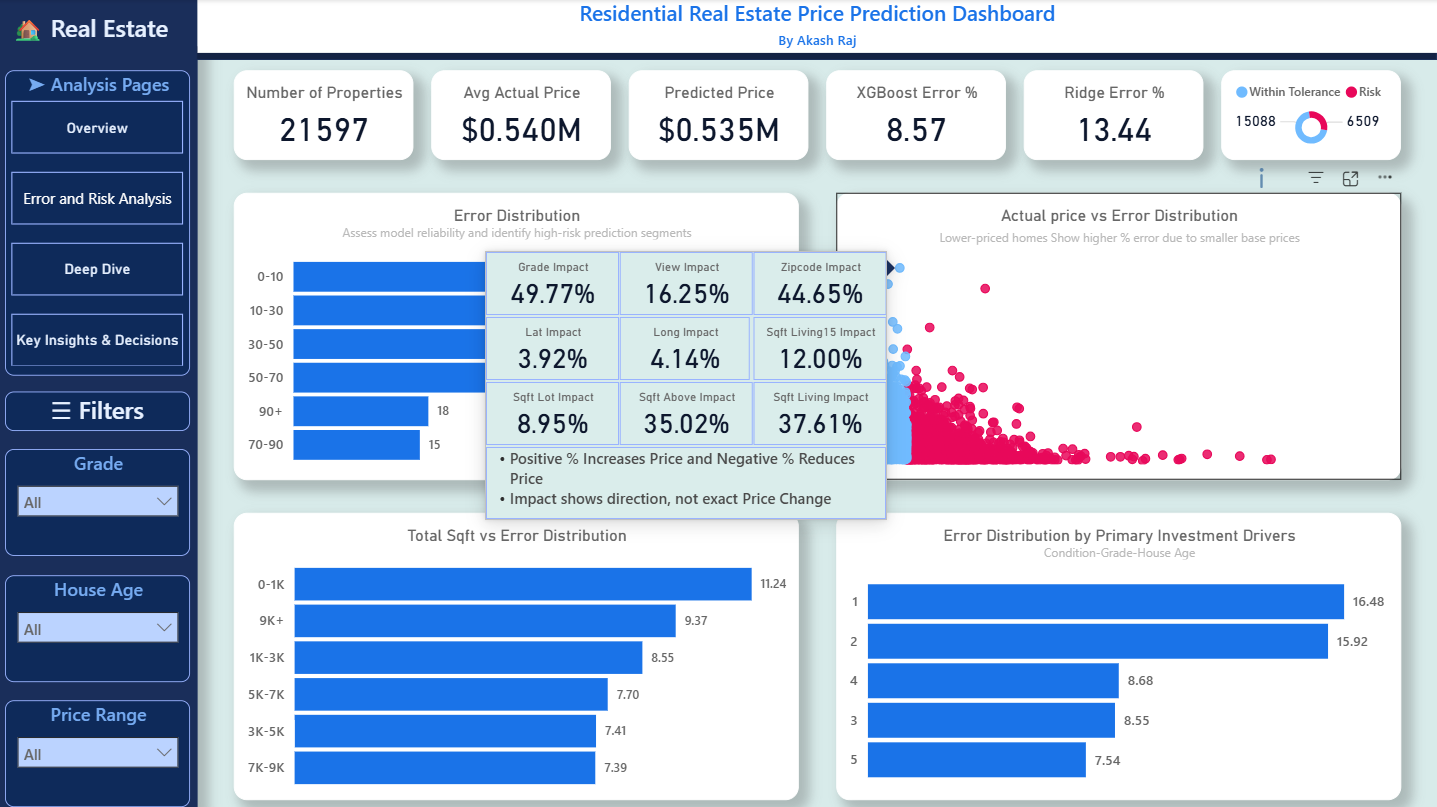

This screenshot's page, from the dashboard's own definition file:
{"tool":"tableau","page":{"name":"Error Analysis & Model Risk","canvas":[1000,1000],"units":"permille","ordinal":0},"visuals":[{"type":"worksheet","title":"Back 2","mark":"Automatic","box":[0,0,1000,1000]},{"type":"text","box":[47.4,27.8,902.3,47.2]},{"type":"dashboard-object","box":[54.1,33.3,111.3,38.9]},{"type":"filter","title":"Error % vs Price","param":"[federated.0pb6tqq0hun84y1cwjt1z028dbxy].[none:actual_price:qk]","box":[674.4,175,91,98.6]},{"type":"filter","title":"KPI Tiles","param":"[federated.0pb6tqq0hun84y1cwjt1z028dbxy].[none:grade:qk]","box":[766.9,175,91,98.6]},{"type":"filter","title":"KPI Tiles","param":"[federated.0pb6tqq0hun84y1cwjt1z028dbxy].[none:house_age:qk]","box":[859.4,175,91,98.6]},{"type":"worksheet","title":"KPI Tiles","mark":"Automatic","box":[49.6,176.4,581.2,98.6]},{"type":"blank","box":[166.9,176.4,2.3,97.2]},{"type":"blank","box":[281.9,176.4,2.3,97.2]},{"type":"blank","box":[397,176.4,2.3,97.2]},{"type":"blank","box":[512,176.4,2.3,97.2]},{"type":"worksheet","title":"Ridge Error % Distribution","mark":"Automatic","rows":["Calculation_0602830477926402"],"cols":["id"],"box":[674.4,373.6,272.9,244.4]},{"type":"worksheet","title":"Ridge Coefficient Effect","mark":"Automatic","box":[47.4,376.4,130.8,526.4]},{"type":"worksheet","title":"Price Map","mark":"Multipolygon","rows":["lat"],"cols":["long"],"box":[218.8,376.4,206.8,526.4]},{"type":"worksheet","title":"Error % vs Price","mark":"Automatic","rows":["xgb_error_pct"],"cols":["actual_price"],"box":[427.8,376.4,206.8,526.4]},{"type":"legend","title":"Error % vs Price","param":"[federated.0pb6tqq0hun84y1cwjt1z028dbxy].[none:Calculation_0458520059084800:nk]","box":[518.8,387.5,111.3,69.4]},{"type":"worksheet","title":"XGBoost Error % Distribution","mark":"Bar","rows":["Calculation_0602830478553091"],"cols":["id"],"box":[674.4,665.3,272.9,244.4]},{"type":"legend","title":"Price Map","param":"[federated.0pb6tqq0hun84y1cwjt1z028dbxy].[none:grade:qk]","box":[317.3,811.1,105.3,86.1]}]}

Visuals, with their boxes on the dashboard's canvas, which has no fixed pixel size, in thousandths of its width and height (x1, y1, x2, y2). These are canvas units, not pixel positions in the 1437x807 screenshot, which may show the page scaled, cropped or inside an application window:
"Back 2" worksheet: <box>0,0,1000,1000</box>
text: <box>47,28,950,75</box>
dashboard-object: <box>54,33,165,72</box>
"Error % vs Price" filter: <box>674,175,765,274</box>
"KPI Tiles" filter: <box>767,175,858,274</box>
"KPI Tiles" filter: <box>859,175,950,274</box>
"KPI Tiles" worksheet: <box>50,176,631,275</box>
blank: <box>167,176,169,274</box>
blank: <box>282,176,284,274</box>
blank: <box>397,176,399,274</box>
blank: <box>512,176,514,274</box>
"Ridge Error % Distribution" worksheet: <box>674,374,947,618</box>
"Ridge Coefficient Effect" worksheet: <box>47,376,178,903</box>
"Price Map" worksheet (Multipolygon marks): <box>219,376,426,903</box>
"Error % vs Price" worksheet: <box>428,376,635,903</box>
"Error % vs Price" legend: <box>519,388,630,457</box>
"XGBoost Error % Distribution" worksheet (Bar marks): <box>674,665,947,910</box>
"Price Map" legend: <box>317,811,423,897</box>
